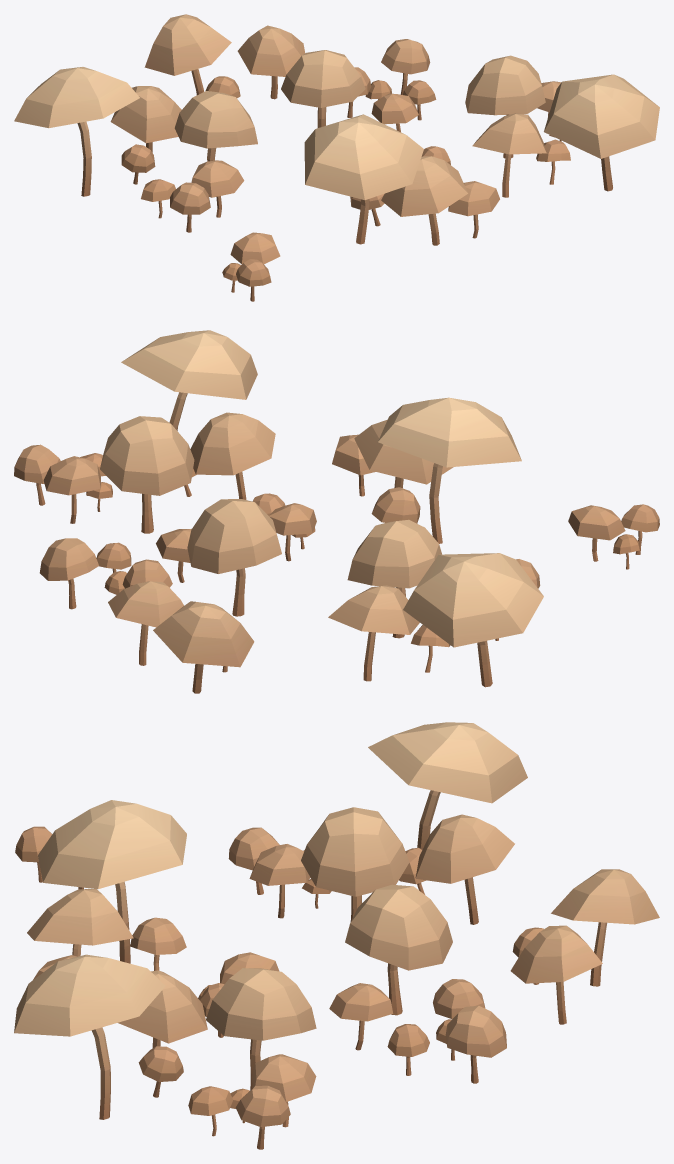
Rendered from SM_Exterior_Setas_02.fbx.
3 renders of one model, top to bottom at view 1: azimuth 30°, elevation 25°; view 2: azimuth 150°, elevation 25°; view 3: azimuth 270°, elevation 25°, orthographic. The views are drawn at different scales.
Visible parts, largest first — view 1: SM_Exterior_Setas2; view 2: SM_Exterior_Setas2; view 3: SM_Exterior_Setas2.
Boxes of the visible parts, box(x1,y1,x2,y2) form: SM_Exterior_Setas2: box(14, 14, 659, 301); SM_Exterior_Setas2: box(14, 330, 659, 693); SM_Exterior_Setas2: box(14, 722, 659, 1149).
Bounding box in the file's own units: 118 × 27.15 × 99.18.
